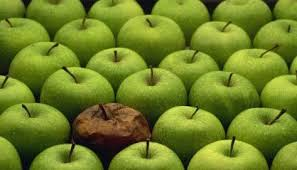apple: (2, 106, 71, 146)
damaged_apple: (77, 104, 148, 151)
